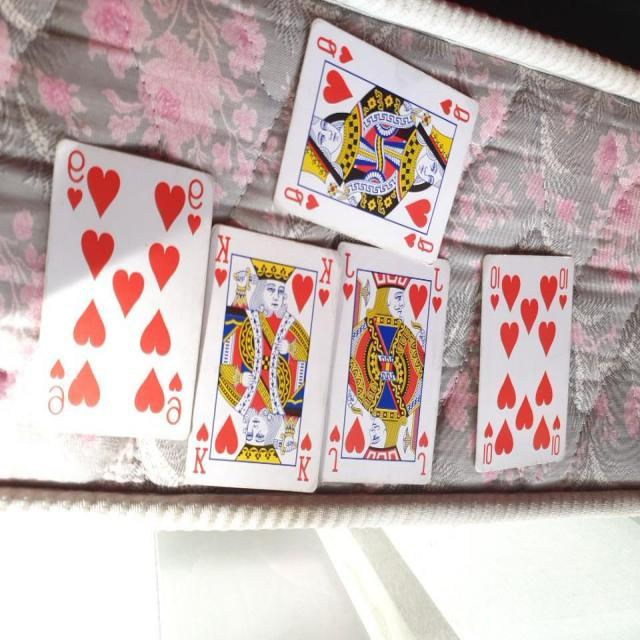10 of hearts: (470, 250, 580, 487)
9 of hearts: (24, 132, 218, 440)
jack of hearts: (320, 246, 454, 492)
king of hearts: (182, 217, 342, 503)
queen of hearts: (274, 11, 481, 268)
